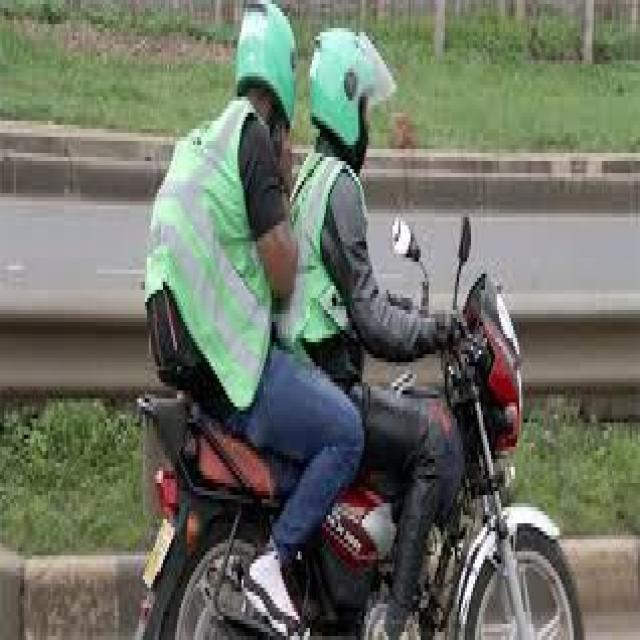bodaboda: (97, 203, 591, 640)
